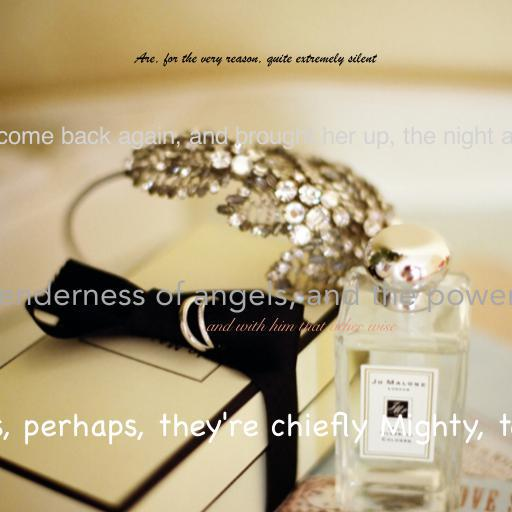Avenir: (0, 280, 512, 313)
Brush Script MT: (134, 52, 376, 67)
Chalkboard: (0, 411, 512, 445)
Impact: (0, 126, 512, 150)
Snell Roundhand: (206, 318, 396, 332)
